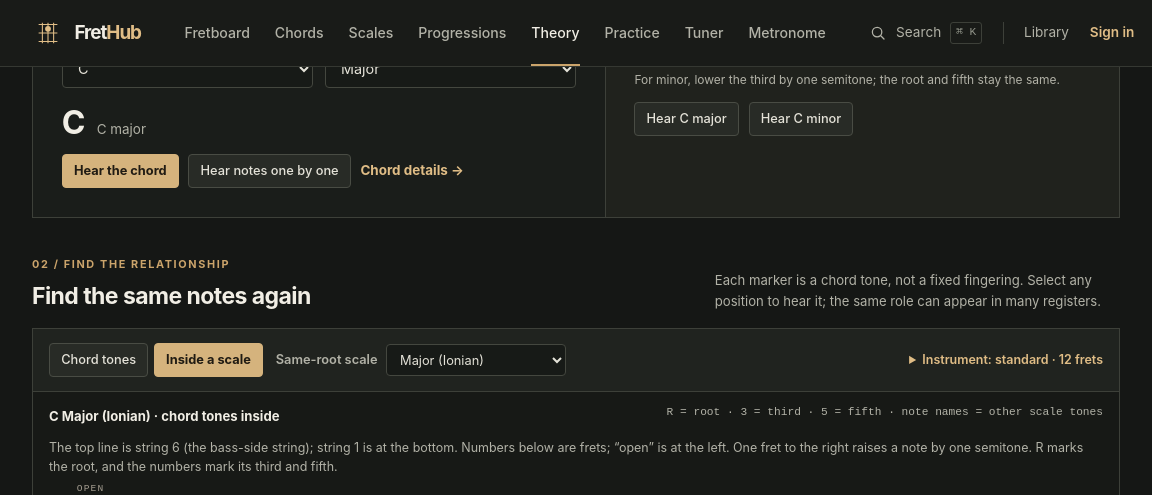
Test: connected triad study › falls back safely for malformed share links
(page scrolled)
expect the dropdown labelled "Root note" shows "C": met, box x1=62 y1=50 x2=313 y2=88
expect the dropdown labelled "Chord quality" shows "Major": met, box x1=325 y1=50 x2=576 y2=88
Click the heading "Instrument: standard · 12 frets".
click(1006, 360)  # box x1=909 y1=350 x2=1103 y2=370
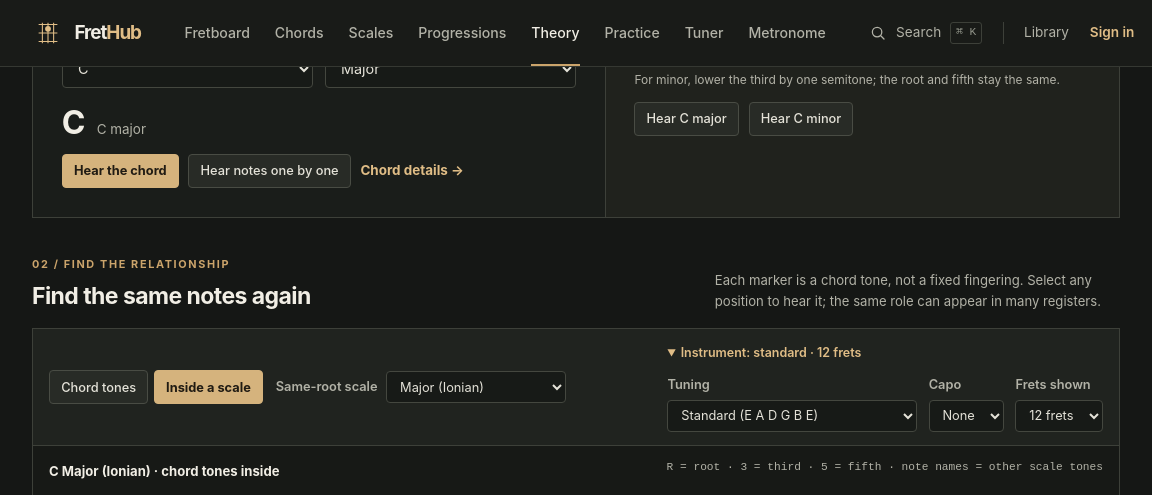
expect the dropdown labelled "Tuning" shows "Standard (E A D G B E)": met, box x1=667 y1=400 x2=917 y2=432
expect the dropdown labelled "Capo" shows "None": met, box x1=929 y1=400 x2=1004 y2=432
expect the dropdown labelled "Frets shown" shows "12 frets": met, box x1=1015 y1=400 x2=1103 y2=432
